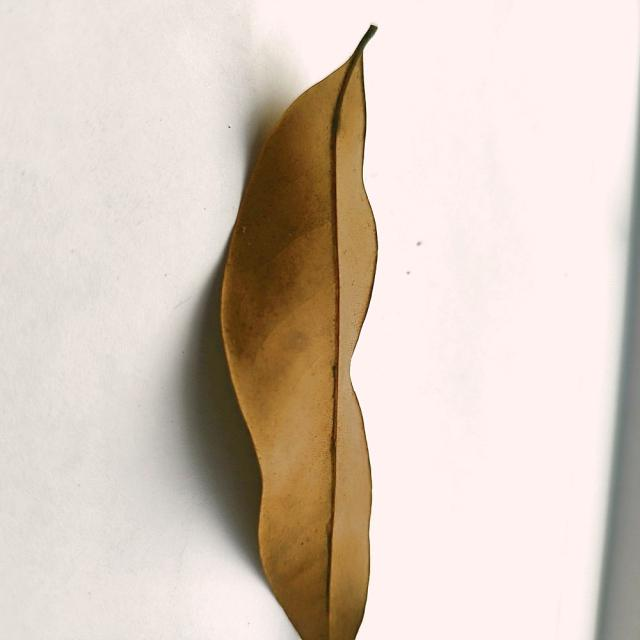Dry_Leaf-Lychee: (219, 31, 380, 639)
